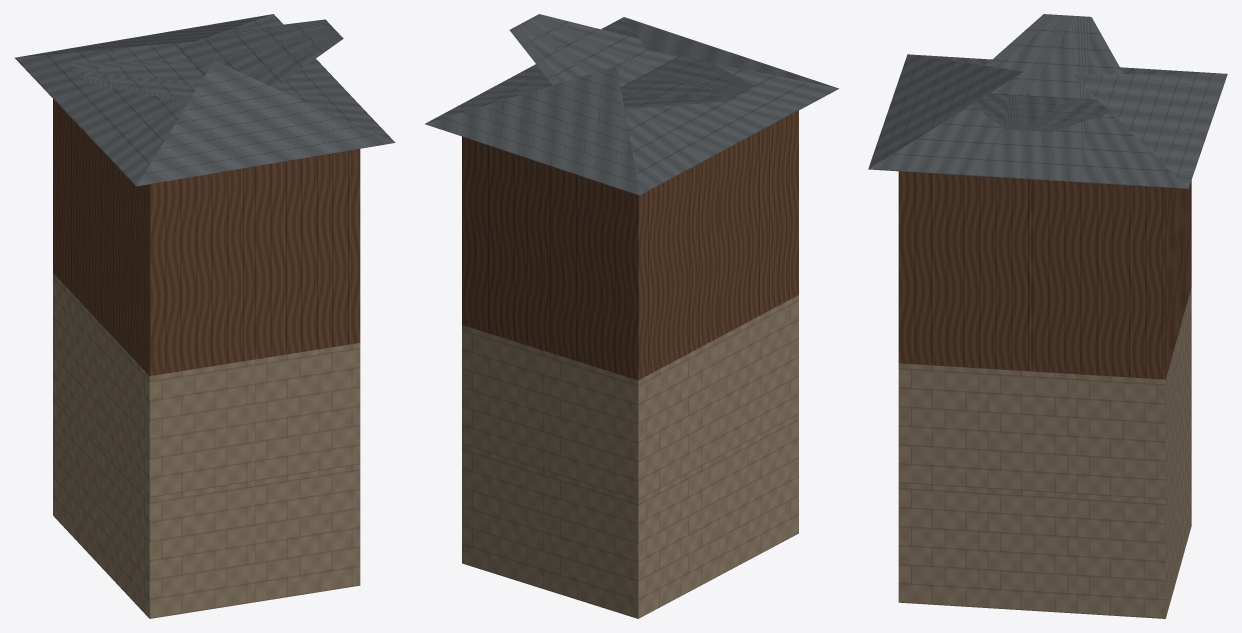
File: bld_c13_6_550.gltf
3 views of the same model, side by side, from view 1: azimuth 30°, elevation 25°; view 2: azimuth 150°, elevation 25°; view 3: azimuth 270°, elevation 25° (orthographic).
Visible parts, largest first — view 1: bld_c13_6_550; view 2: bld_c13_6_550; view 3: bld_c13_6_550.
Boxes of the visible parts, x1=… form: bld_c13_6_550: x1=14, y1=14, x2=395, y2=618; bld_c13_6_550: x1=425, y1=14, x2=838, y2=618; bld_c13_6_550: x1=868, y1=14, x2=1227, y2=618.
Size of the model in its own units: 5.93 by 10.1 by 6.7.
3 materials, 3 textured.
